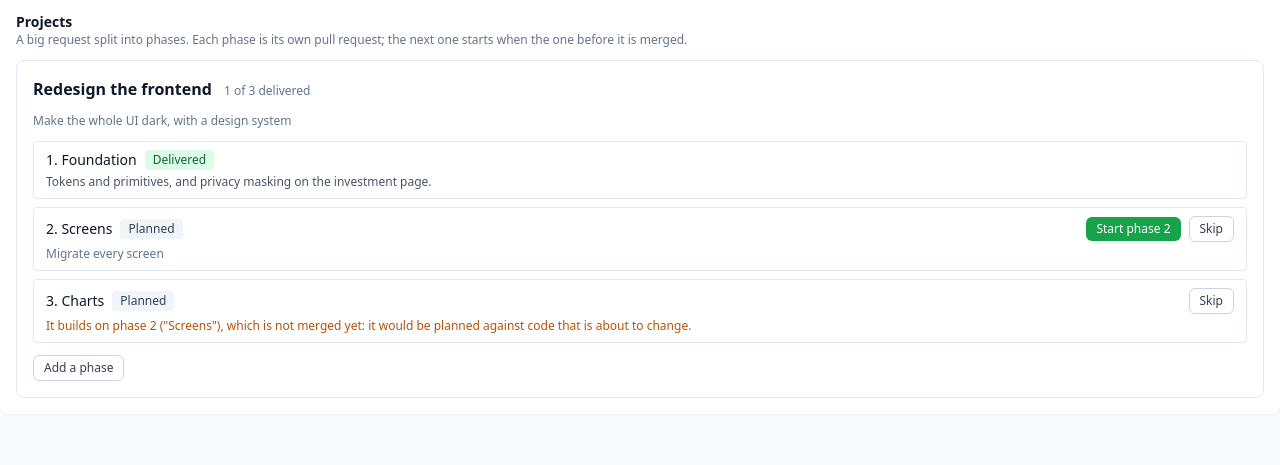
Test: changing the plan › says why an edit was refused - history cannot be rewritten
Click the 1st button "Skip" at (1211, 229), box 1188,216 -> 1234,242
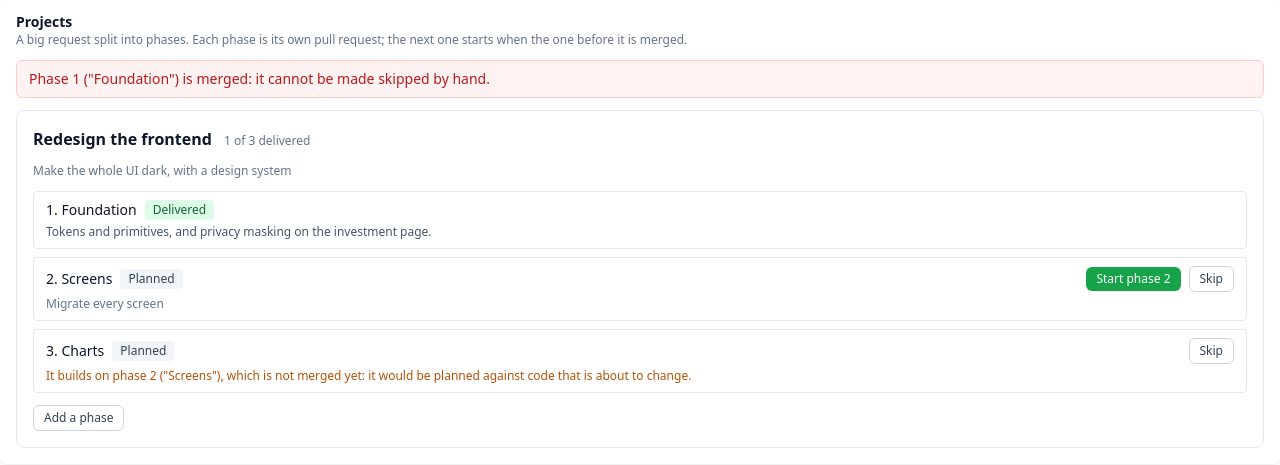
Check: the message reads "Phase 1 (\"Foundation\") is merged: it cannot be made skipped by hand.", box 29,69 -> 490,88
